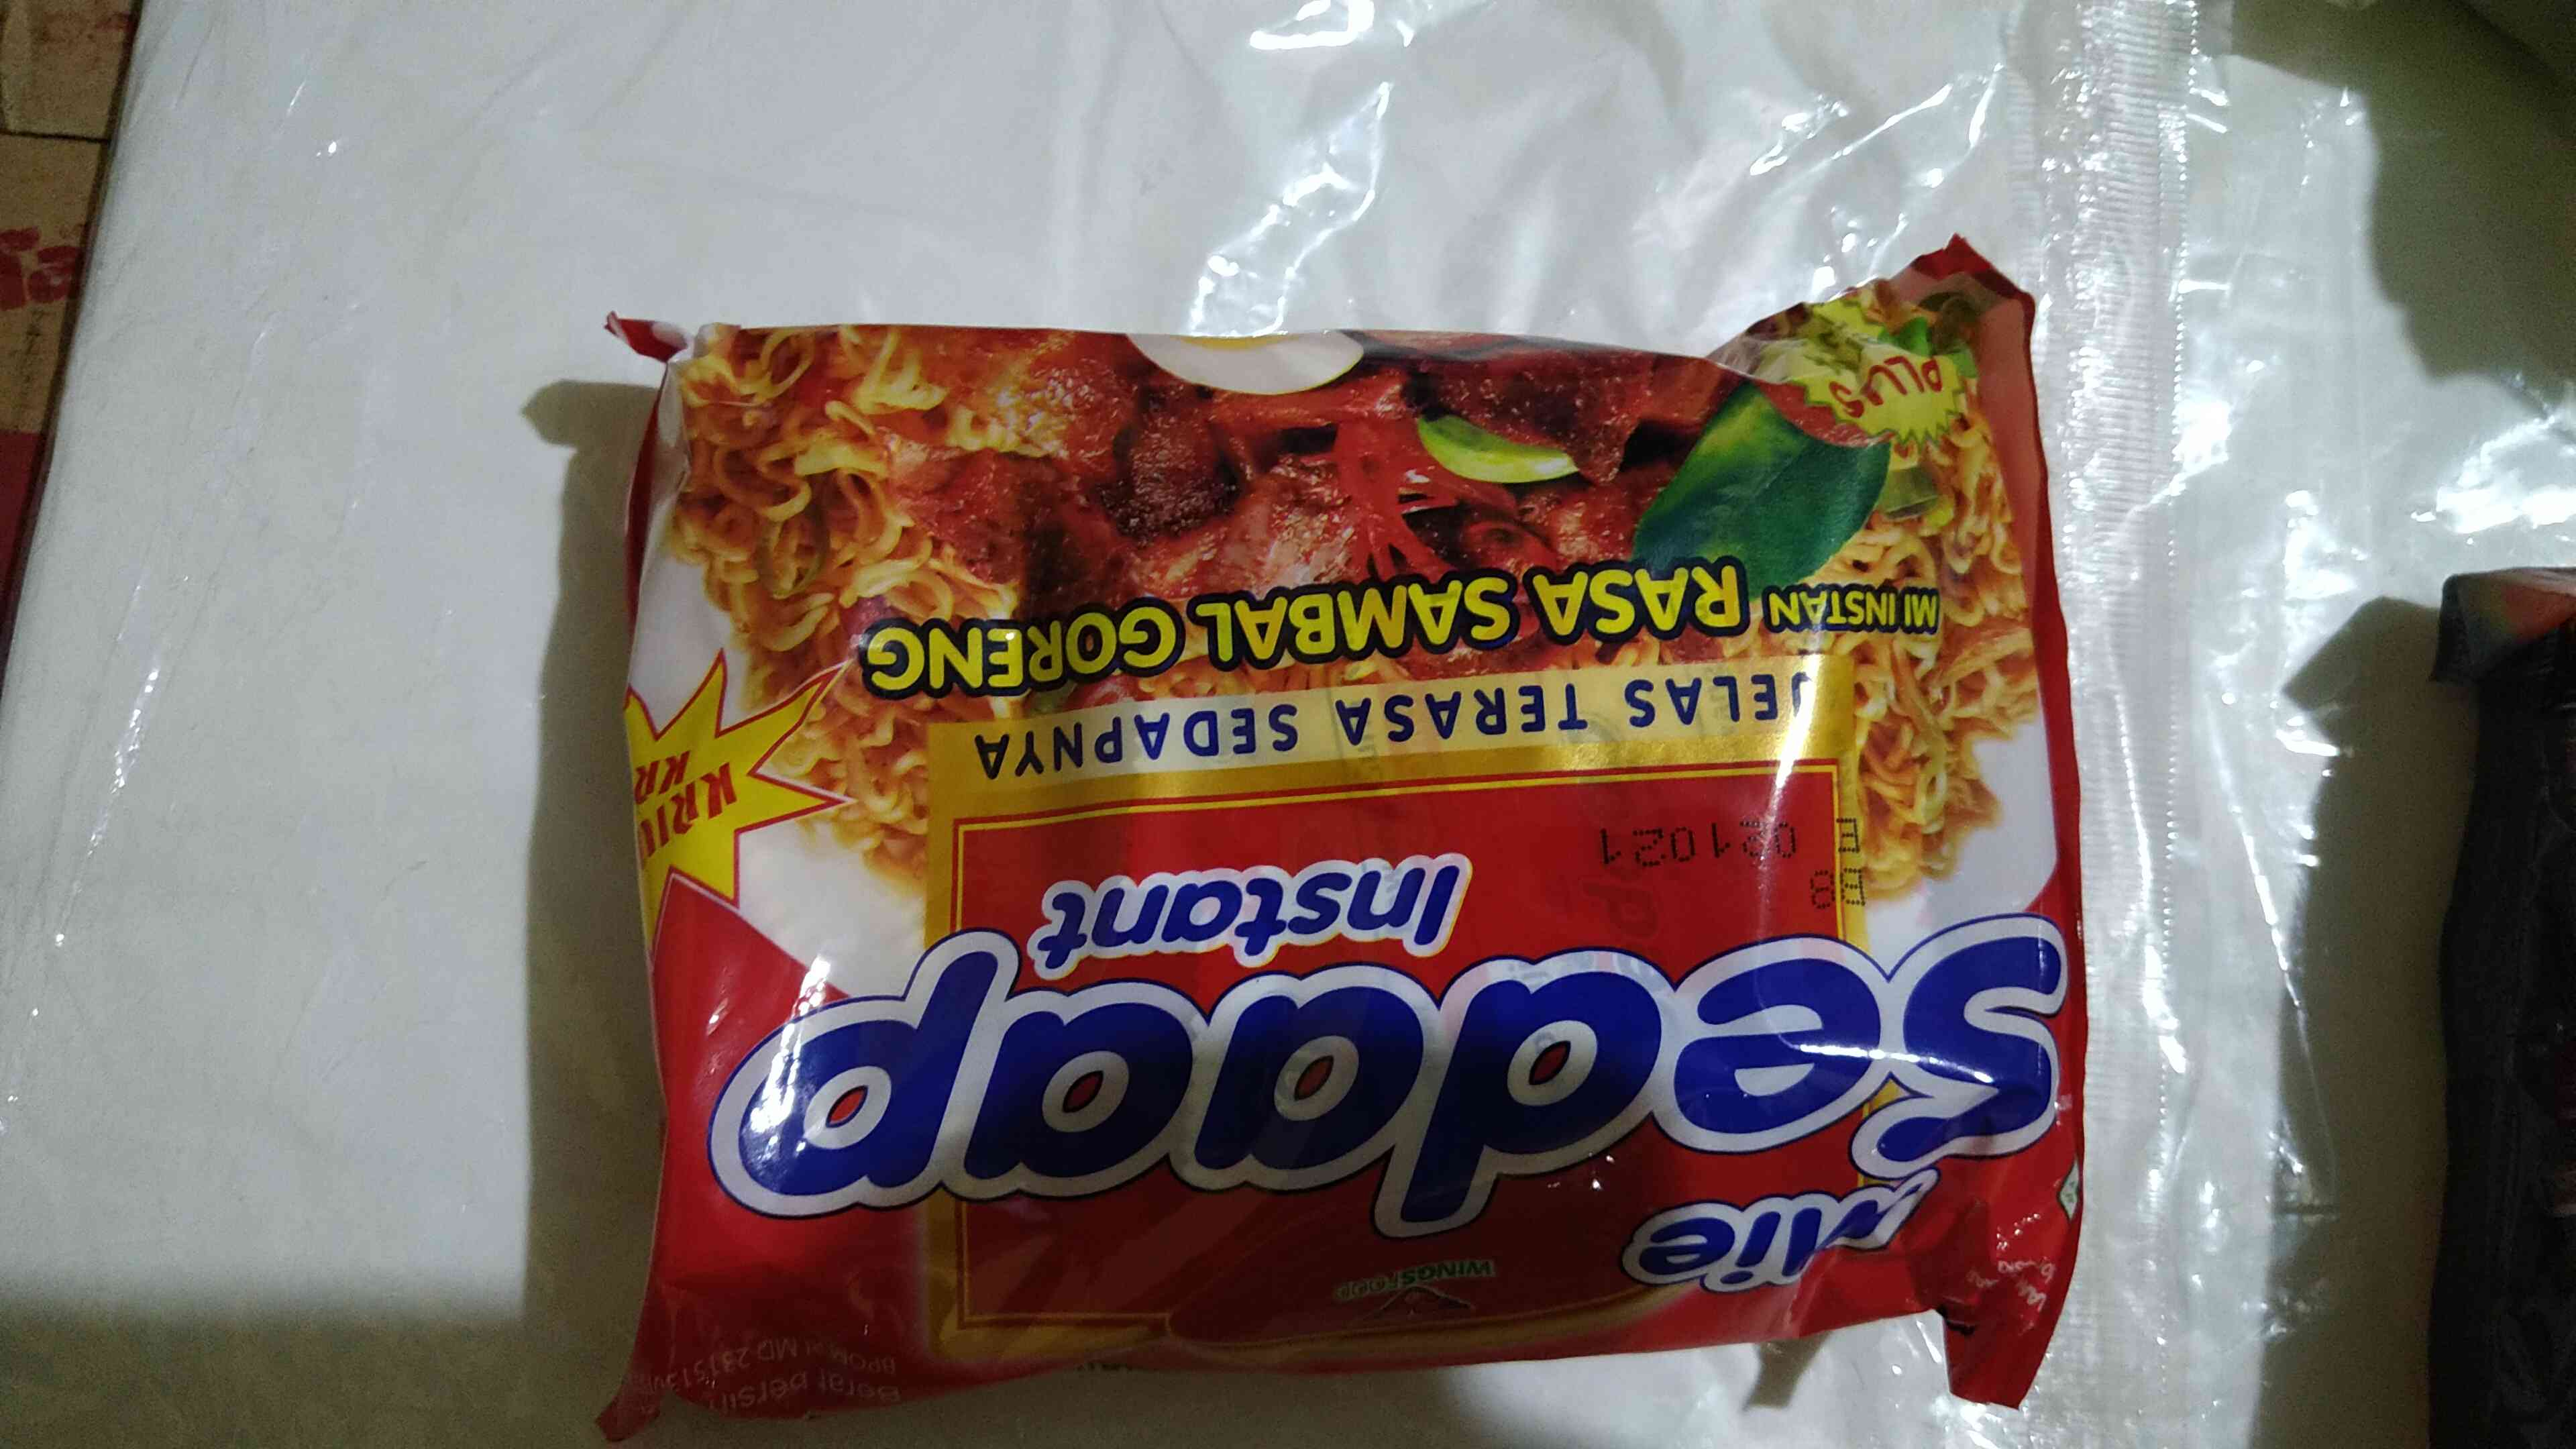sedaap sambal goreng: (561, 278, 2166, 1339)
